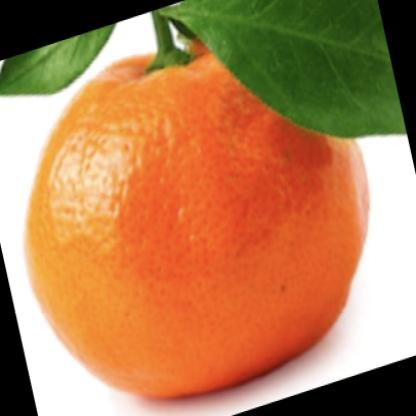fresh: (28, 47, 369, 394)
